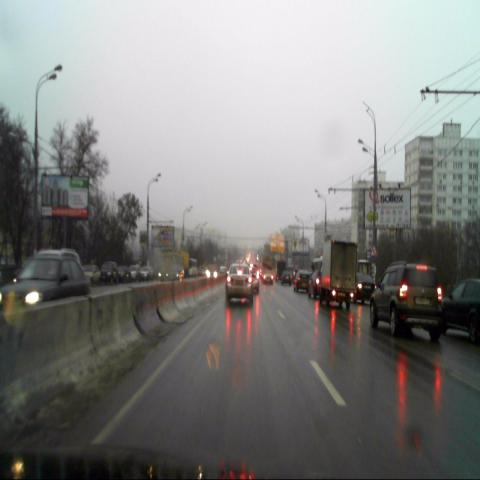1_25: (370, 245, 378, 257)
